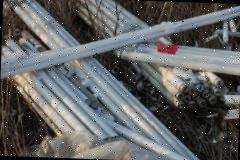lightbulb: (0, 0, 240, 160), (228, 18, 236, 32)
